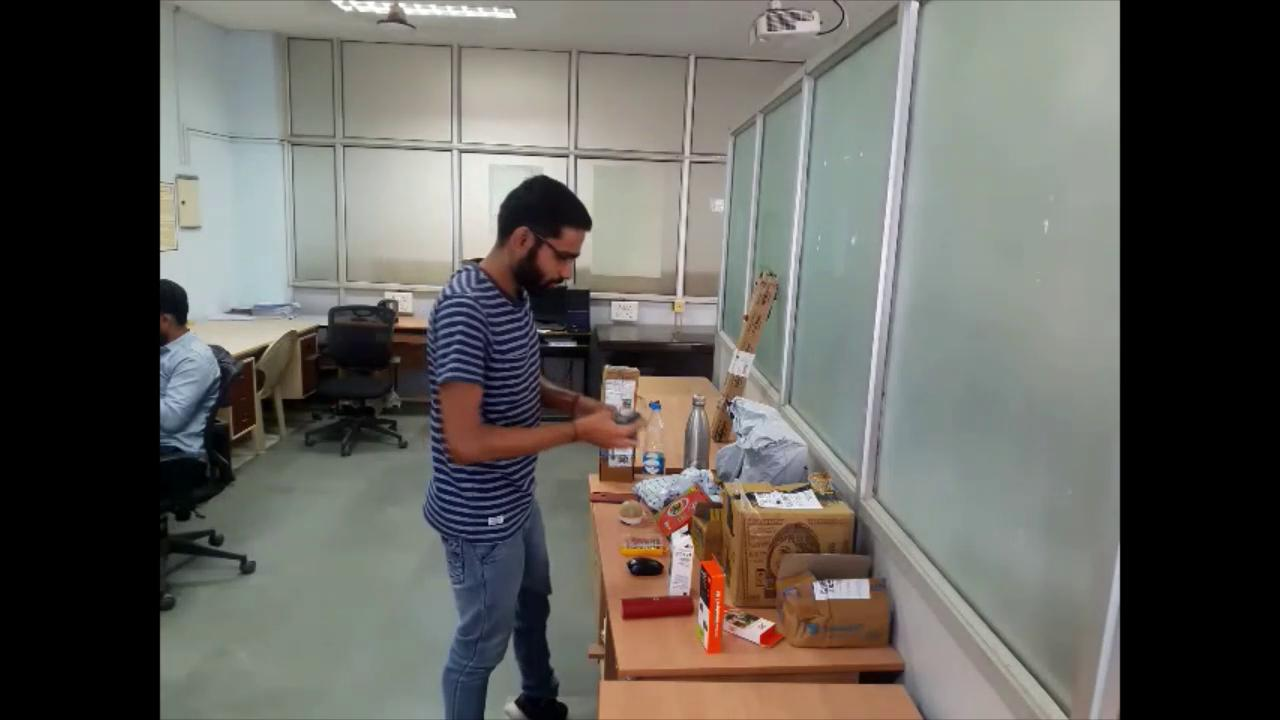Normal: (417, 174, 656, 720)
